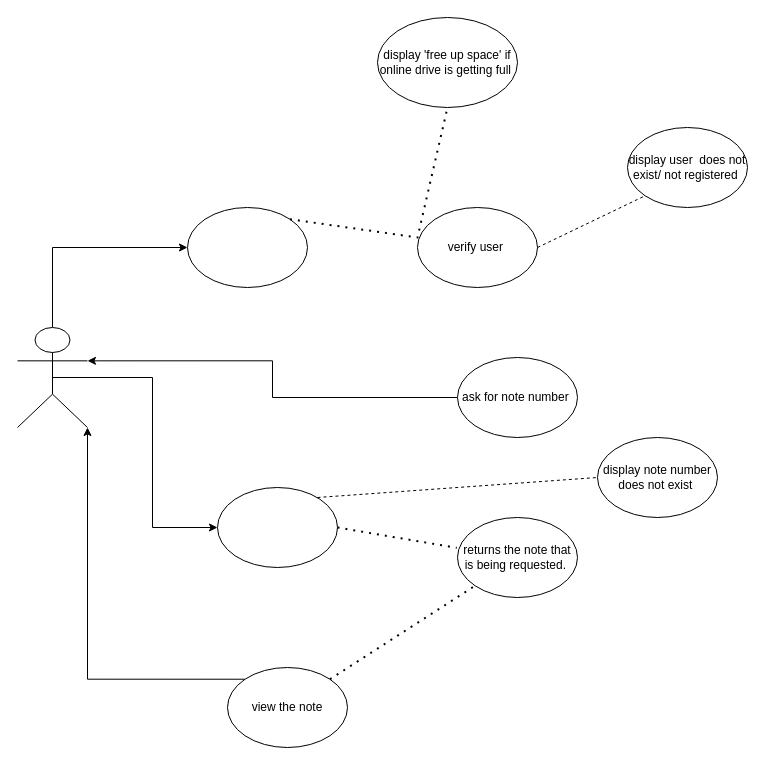
Some shapes in this 765 by 765 pixel diagram are drawn without their labels. The shapes that lost their labels are listed below. From the top down, each one's box as (x1, y1, x2, y2) in pixels, then its label:
(186, 206, 308, 288): log in
(16, 326, 88, 428): Actor
(216, 486, 338, 568): enter note number
